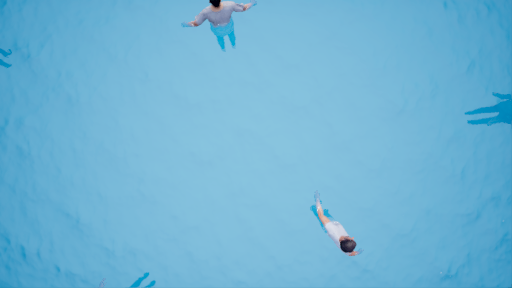person: (179, 1, 261, 59), (301, 190, 367, 260)
